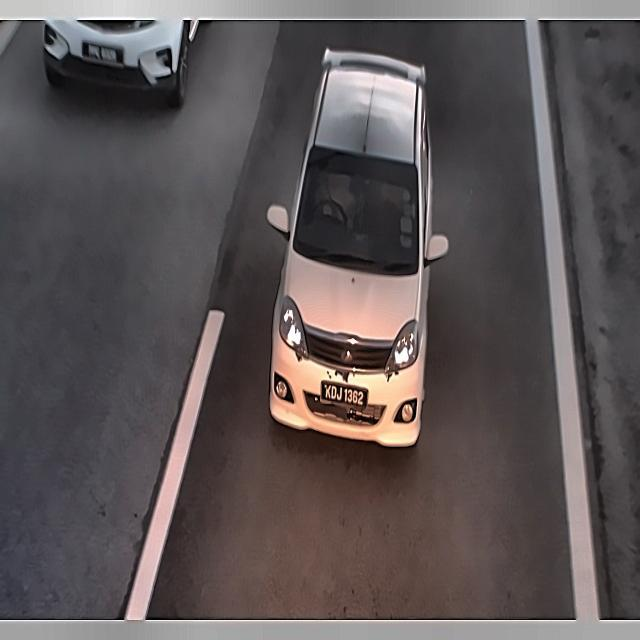car: (318, 373, 373, 417), (81, 36, 125, 69)
